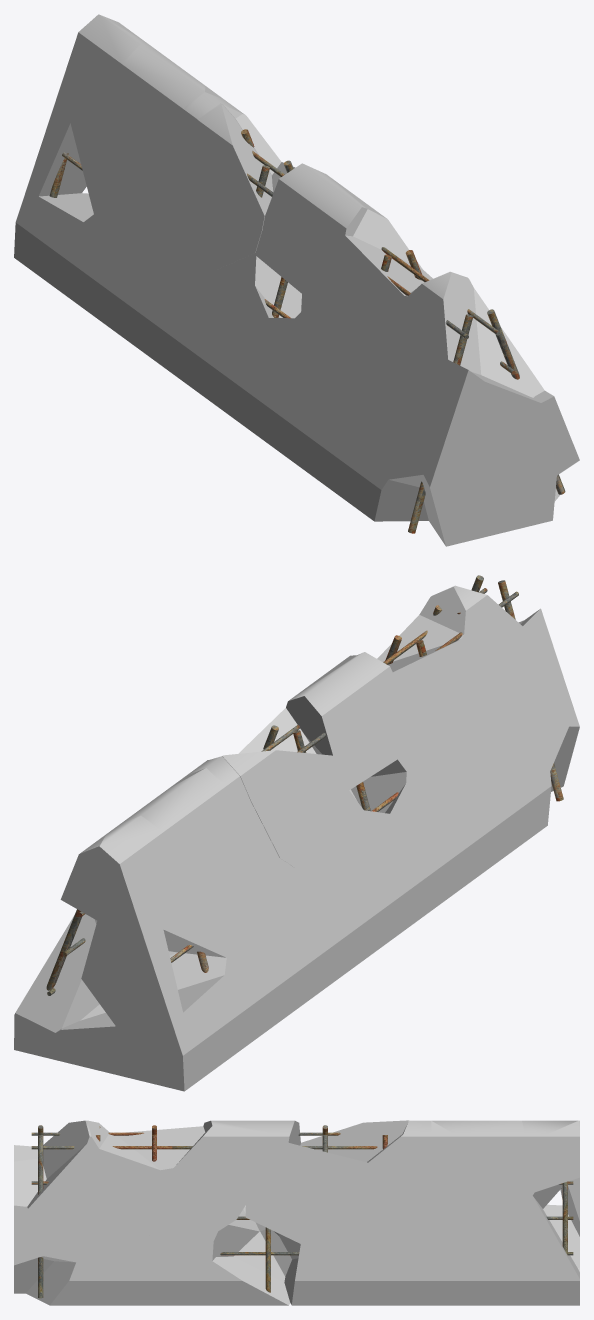
Rendered from old road barrier.FBX.
The picture shows the model from 3 angles, top to bottom: view 1: azimuth 30°, elevation 25°; view 2: azimuth 150°, elevation 25°; view 3: azimuth 270°, elevation 25°; orthographic projection. The views are drawn at different scales.
Visible parts, largest first — view 1: Box001_Part_57, Box001_Part_59, Box001_Part_28, Box001_Part_47, Box001_Part_19, Box001_Part_51, Box001_Part_69, Box001_Part_1, Box001_Part_67, Box001_Part_23, Box001_Part_11, Box001_Part_64 (+26 smaller); view 2: Box001_Part_51, Box001_Part_57, Box001_Part_40, Box001_Part_59, Box001_Part_1, Box001_Part_28, Box001_Part_69, Box001_Part_23, Box001_Part_67, Box001_Part_54, Box001_Part_11, Box001_Part_19 (+22 smaller); view 3: Box001_Part_54, Box001_Part_43, Box001_Part_20, Box001_Part_63, Box001_Part_3, Box001_Part_26, Box001_Part_10, Box001_Part_22, Box001_Part_56, Box001_Part_58, Box001_Part_9, Box001_Part_36 (+38 smaller).
Boxes of the visible parts, x1=… form: Box001_Part_57: x1=178, y1=103, x2=273, y2=269; Box001_Part_59: x1=87, y1=212, x2=182, y2=344; Box001_Part_28: x1=392, y1=271, x2=481, y2=404; Box001_Part_47: x1=423, y1=360, x2=497, y2=483; Box001_Part_19: x1=327, y1=235, x2=432, y2=352; Box001_Part_51: x1=14, y1=193, x2=93, y2=310; Box001_Part_69: x1=250, y1=318, x2=308, y2=463; Box001_Part_1: x1=262, y1=163, x2=369, y2=249; Box001_Part_67: x1=206, y1=285, x2=279, y2=430; Box001_Part_23: x1=133, y1=241, x2=213, y2=381; Box001_Part_11: x1=99, y1=107, x2=190, y2=215; Box001_Part_64: x1=109, y1=44, x2=205, y2=138; Box001_Part_51: x1=41, y1=975, x2=257, y2=1091; Box001_Part_57: x1=222, y1=750, x2=347, y2=868; Box001_Part_40: x1=81, y1=909, x2=182, y2=1026; Box001_Part_59: x1=228, y1=858, x2=307, y2=1032; Box001_Part_1: x1=286, y1=652, x2=395, y2=767; Box001_Part_28: x1=419, y1=585, x2=531, y2=689; Box001_Part_69: x1=385, y1=783, x2=468, y2=915; Box001_Part_23: x1=295, y1=849, x2=355, y2=1003; Box001_Part_67: x1=353, y1=810, x2=423, y2=947; Box001_Part_54: x1=14, y1=914, x2=99, y2=1053; Box001_Part_11: x1=222, y1=784, x2=279, y2=950; Box001_Part_19: x1=388, y1=639, x2=462, y2=753; Box001_Part_54: x1=479, y1=1191, x2=579, y2=1305; Box001_Part_43: x1=80, y1=1228, x2=181, y2=1305; Box001_Part_20: x1=170, y1=1126, x2=252, y2=1232; Box001_Part_63: x1=27, y1=1143, x2=113, y2=1249; Box001_Part_3: x1=99, y1=1134, x2=179, y2=1236; Box001_Part_26: x1=291, y1=1237, x2=372, y2=1305; Box001_Part_10: x1=433, y1=1219, x2=501, y2=1305; Box001_Part_22: x1=245, y1=1151, x2=311, y2=1243; Box001_Part_56: x1=431, y1=1121, x2=504, y2=1219; Box001_Part_58: x1=403, y1=1120, x2=455, y2=1225; Box001_Part_9: x1=189, y1=1256, x2=290, y2=1305; Box001_Part_36: x1=153, y1=1222, x2=215, y2=1305.
Size of the model in its own units: 5.88 by 7.4 by 24.33.
